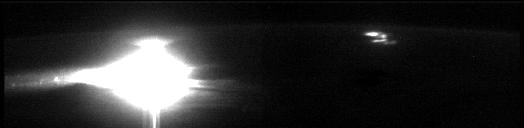negative: (127, 36, 174, 50)
